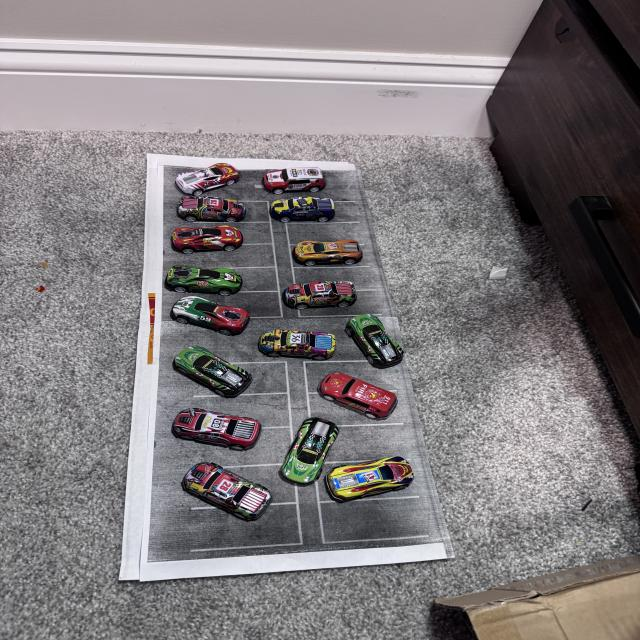car: (168, 454, 272, 544), (146, 393, 272, 455), (284, 352, 402, 417), (158, 341, 266, 410), (152, 147, 274, 203), (318, 448, 440, 502), (157, 294, 280, 347), (328, 312, 428, 372), (160, 220, 270, 270), (251, 320, 345, 362), (154, 267, 263, 303), (254, 146, 332, 196), (276, 420, 331, 489), (269, 279, 367, 311), (280, 239, 382, 266), (167, 192, 242, 226), (256, 188, 345, 212)
